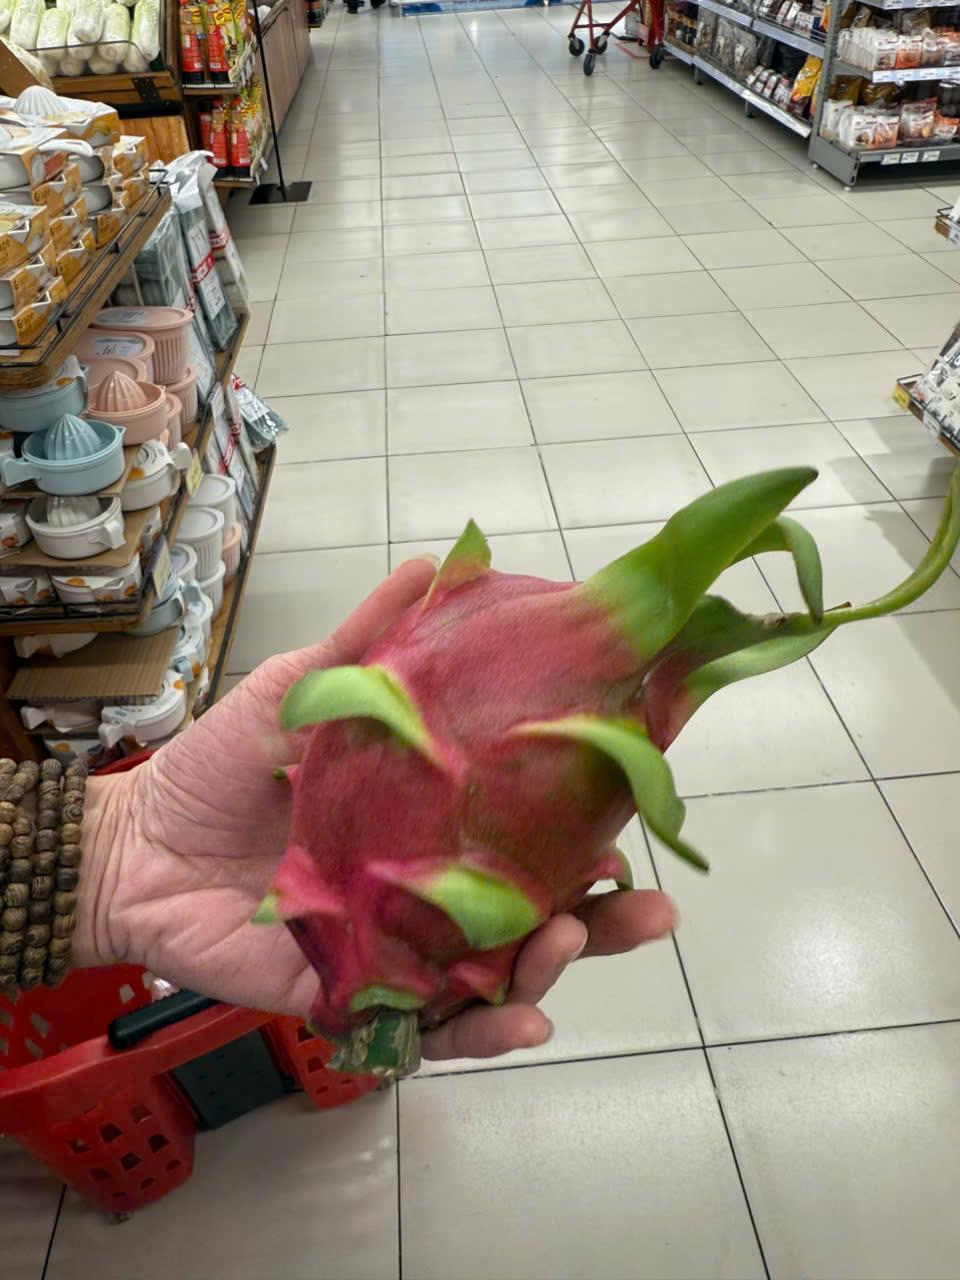dragon fruit: (272, 463, 946, 1070)
